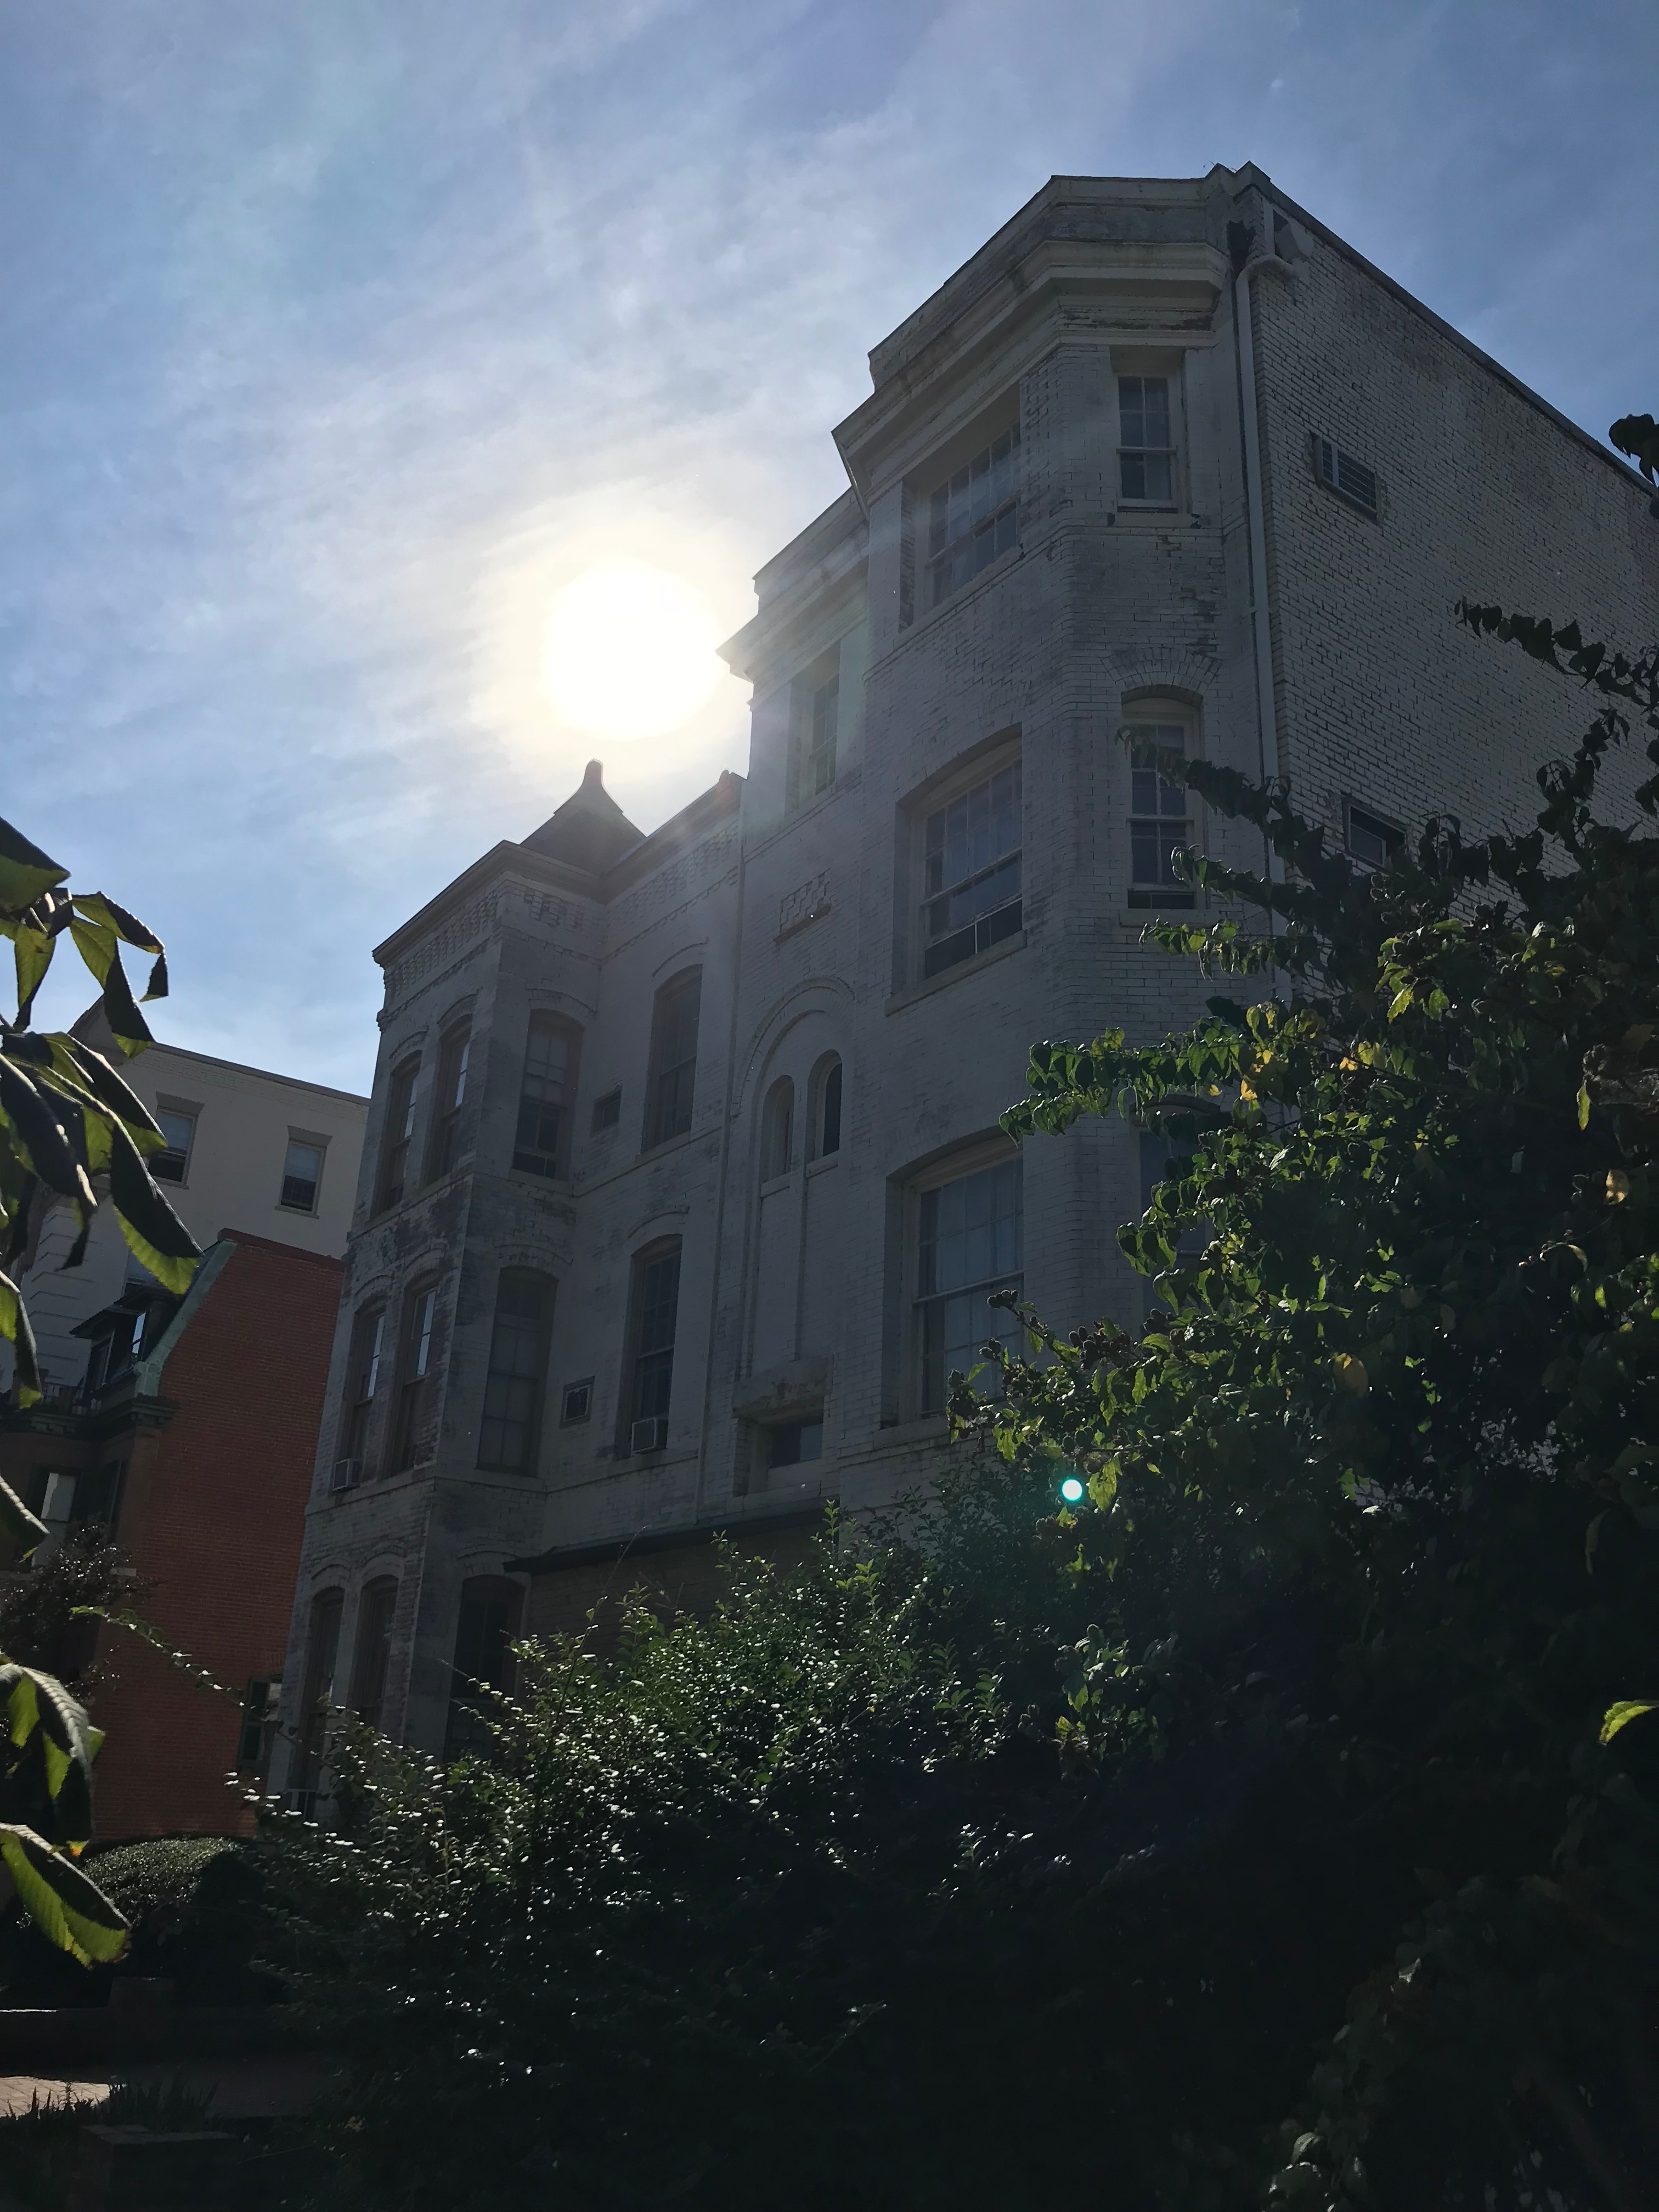flare: (1060, 1477, 1084, 1503)
